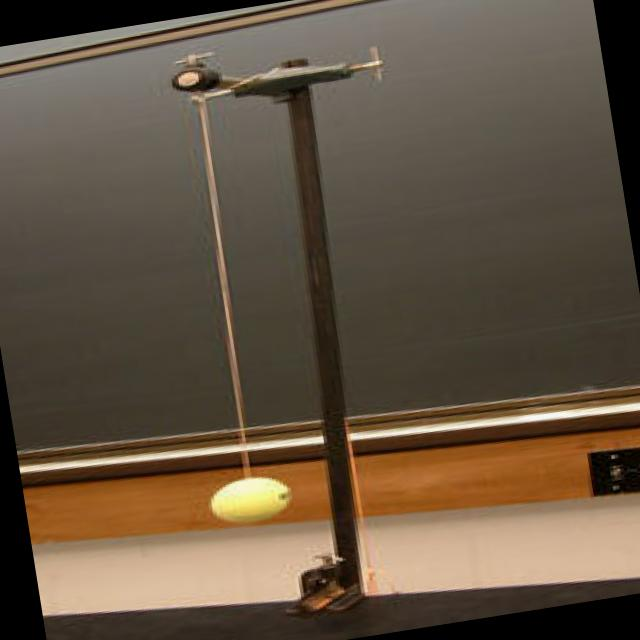Tennis Ball: (208, 478, 293, 528)
